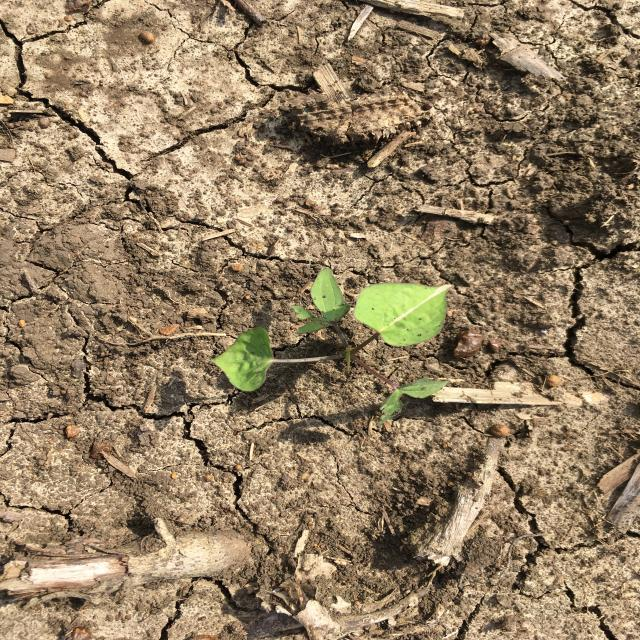MorningGlory: (207, 267, 457, 421)
